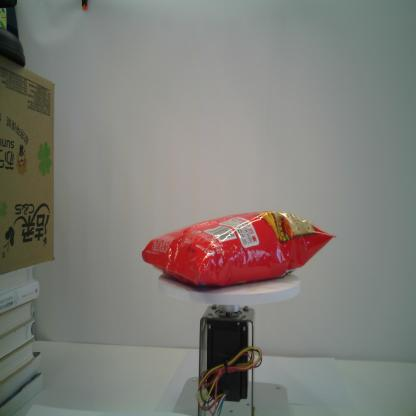Puffed Food: (141, 207, 337, 287)
